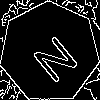N: (25, 27, 81, 85)
